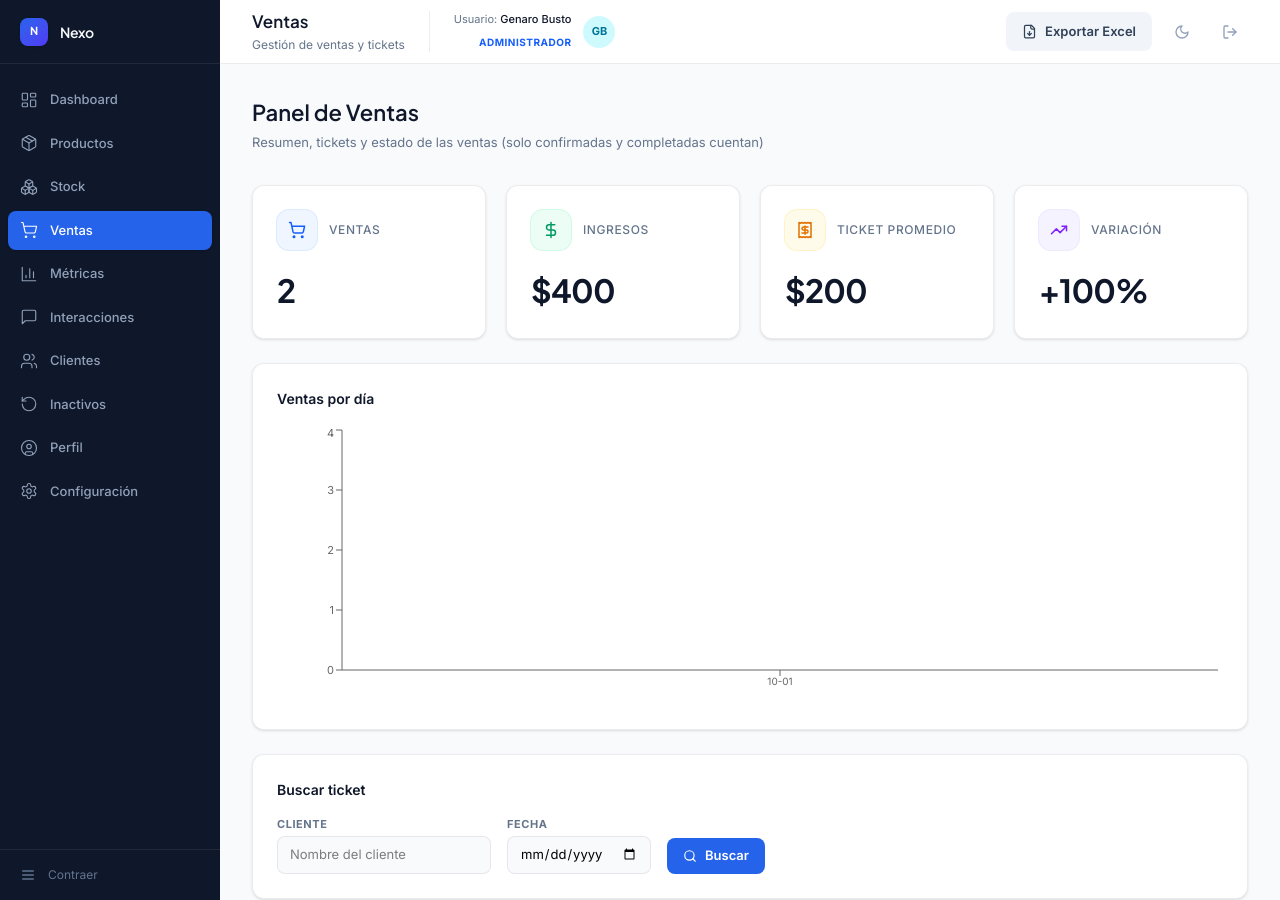
Test case: VentasPage › busca un ticket por cliente y muestra los productos
In the field labelled "Cliente": (384, 855) left=277, top=836, right=491, bottom=874, type "Juan"
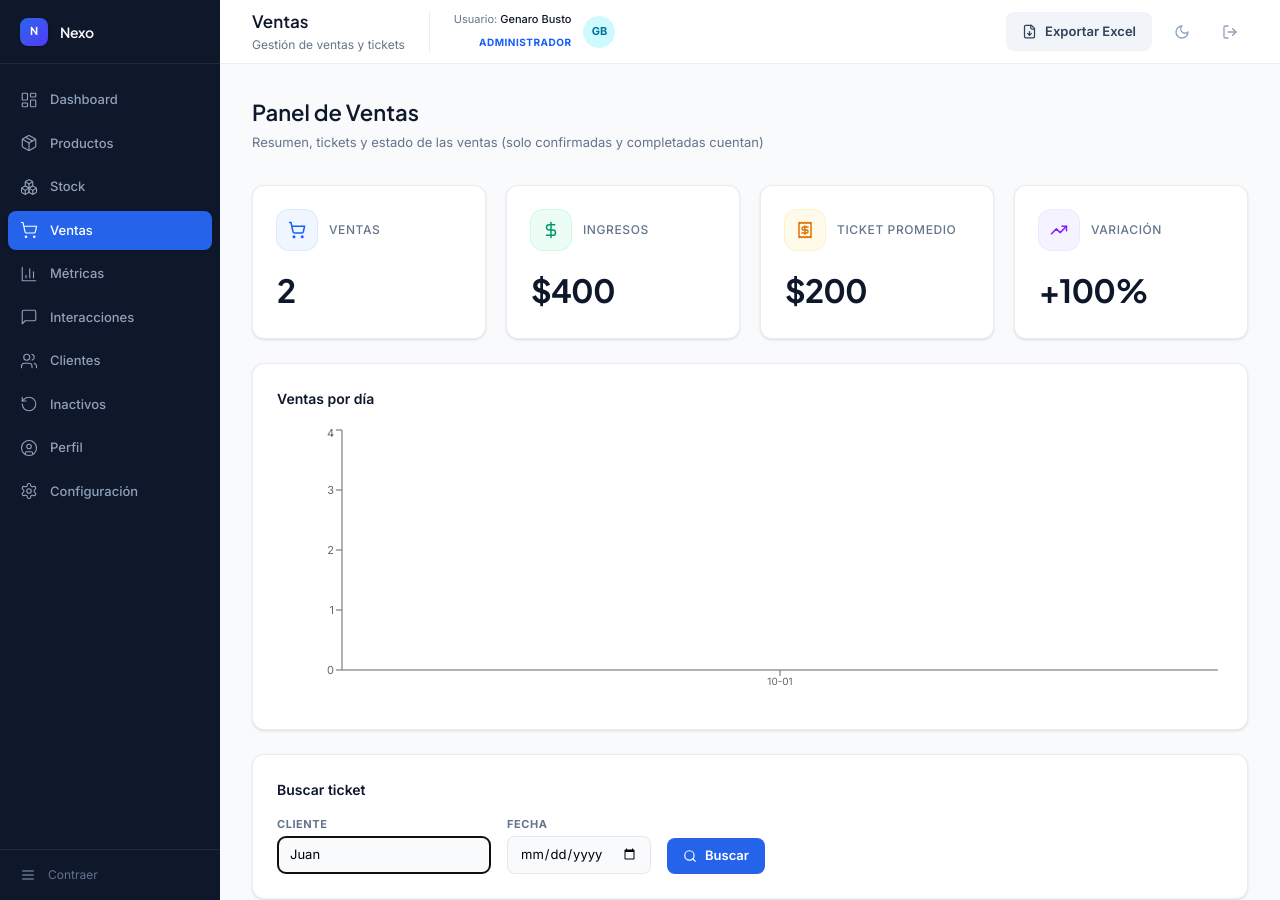
In the date field labelled "Fecha": (579, 855) left=507, top=836, right=651, bottom=874, type "2026-10-01"
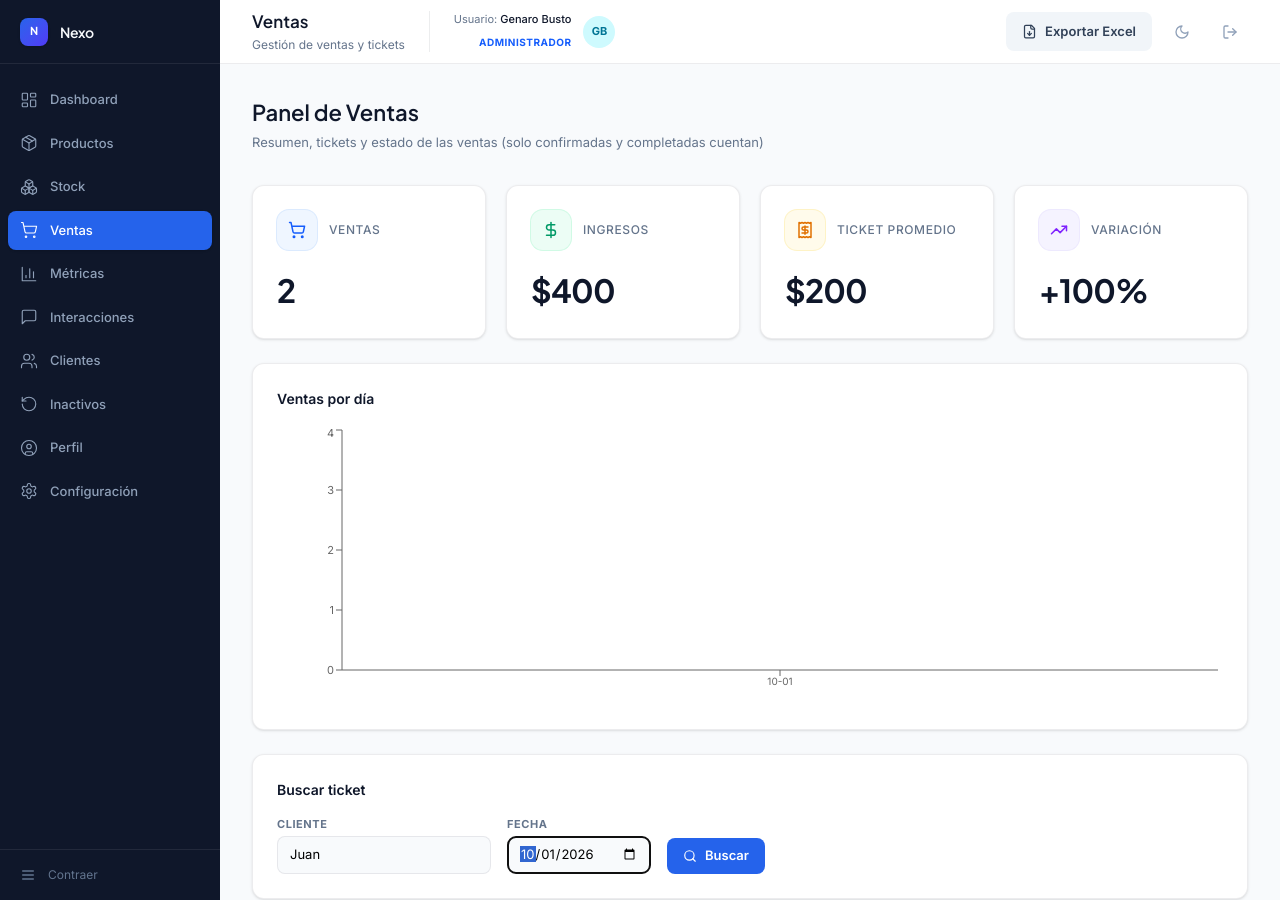
Click the button "Buscar": click(716, 856) left=667, top=838, right=765, bottom=874
(page scrolled)
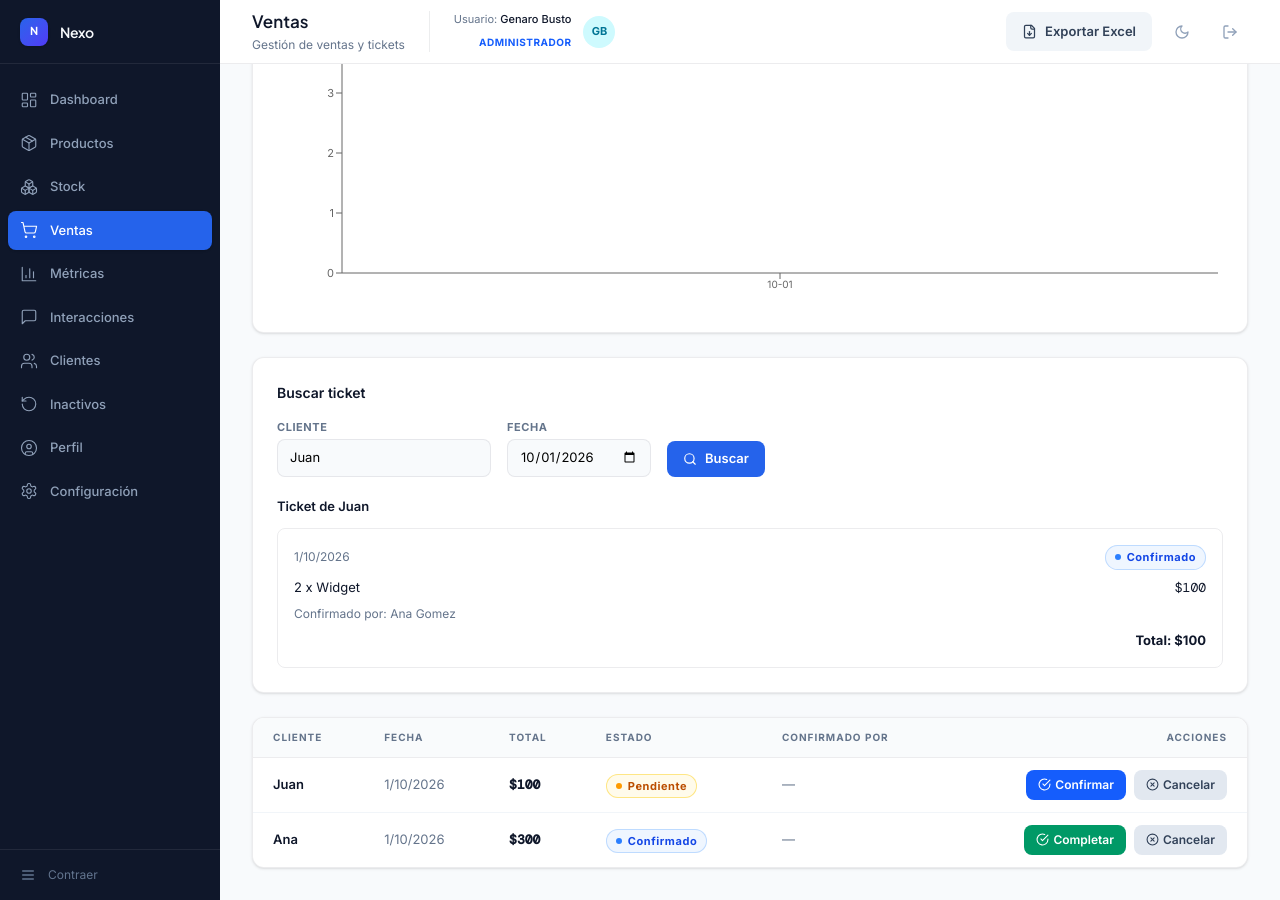
Expected: the text "2 x Widget" is shown, left=294, top=578, right=360, bottom=597
Expected: the text "Confirmado por: Ana Gomez" is shown, left=294, top=606, right=456, bottom=621
